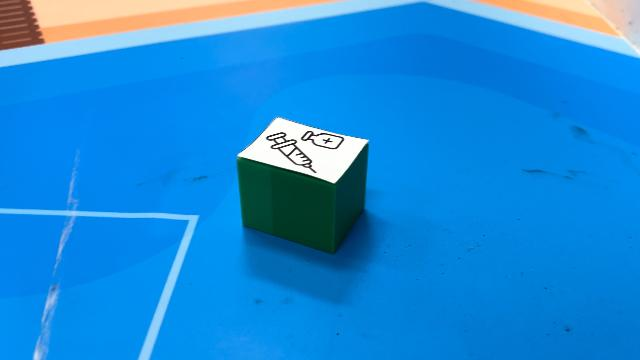syringe: (237, 120, 367, 250)
